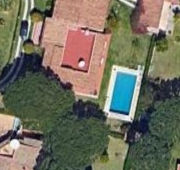pool: (116, 72, 131, 115)
